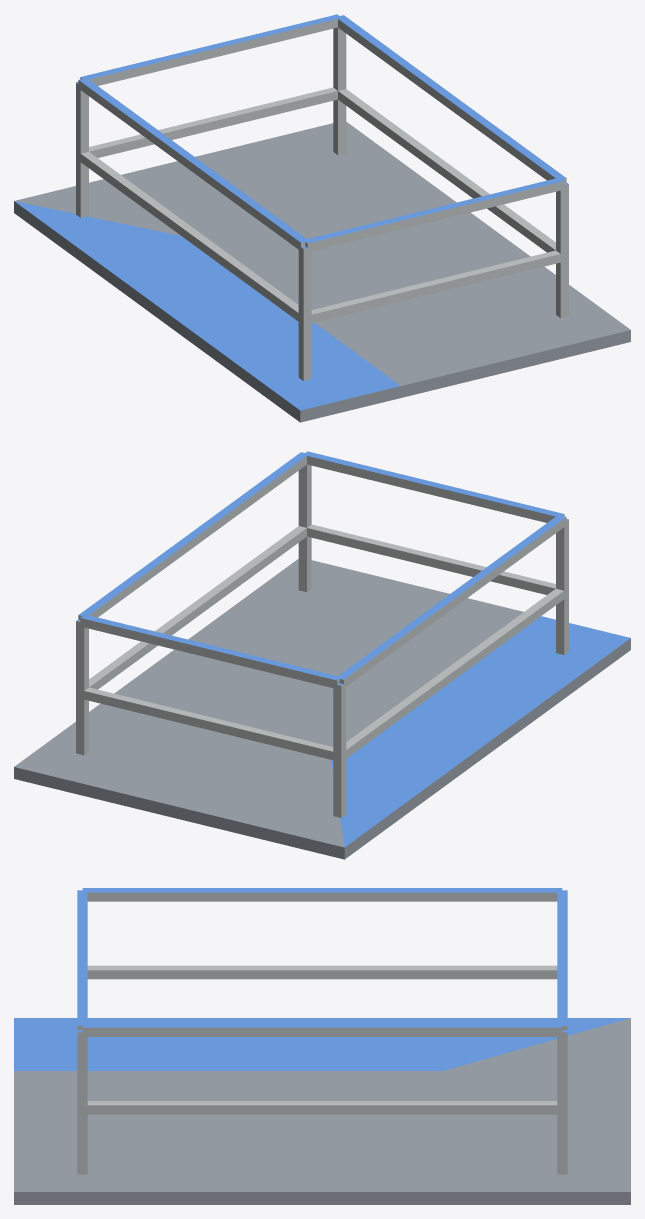
Rendered from veyran_power_plant_scaffolding.glb.
3 renders of one model, top to bottom at view 1: azimuth 30°, elevation 25°; view 2: azimuth 150°, elevation 25°; view 3: azimuth 270°, elevation 25°, orthographic. The views are drawn at different scales.
Visible parts, largest first — view 1: hull; view 2: hull; view 3: hull.
Part boxes in pixels (box(x1,y1,x2,y2)): hull: box(14, 14, 630, 422); hull: box(14, 451, 630, 859); hull: box(14, 888, 630, 1204).
Size of the model in its own units: 7.2 by 3.09 by 10.8.
